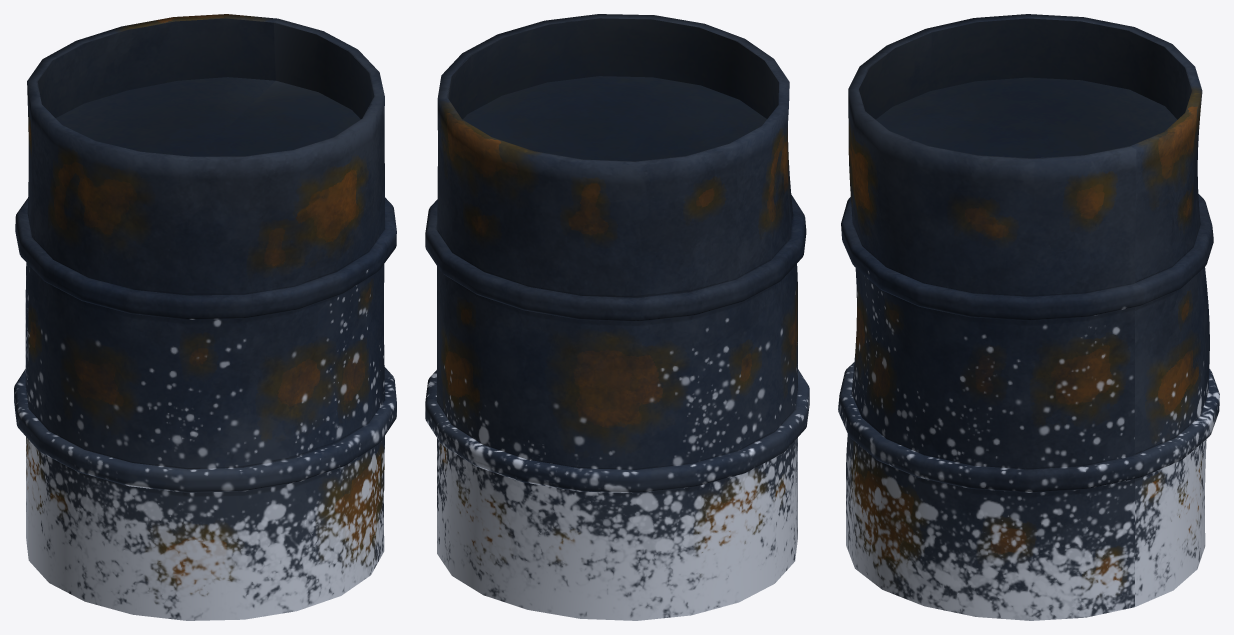
File: OBS_Barril.fbx
3 renders of one model, left to right at view 1: azimuth 30°, elevation 25°; view 2: azimuth 150°, elevation 25°; view 3: azimuth 270°, elevation 25°, orthographic.
Visible parts, largest first — view 1: Cylinder; view 2: Cylinder; view 3: Cylinder.
Part boxes in pixels (x1,y1,x2,y2): Cylinder: [14, 14, 396, 620]; Cylinder: [425, 14, 809, 620]; Cylinder: [838, 14, 1219, 620].
Size of the model in its own units: 162 by 211 by 160.
Materials: 1 (1 with a texture image).
